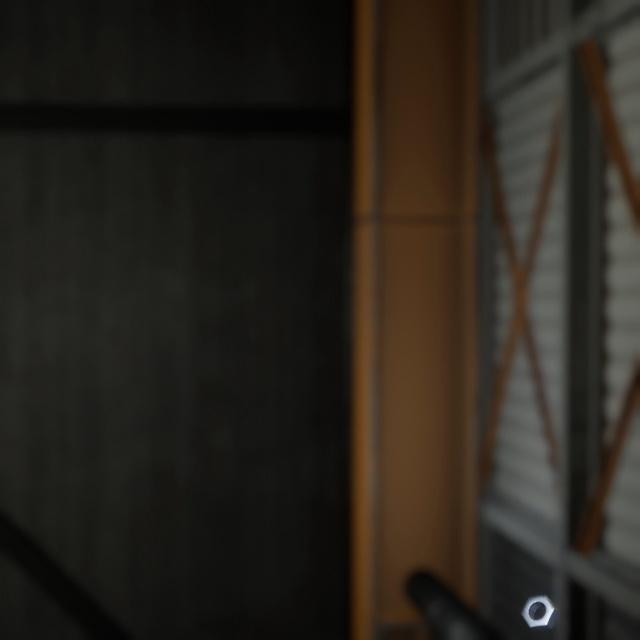nut: (516, 567, 563, 612)
